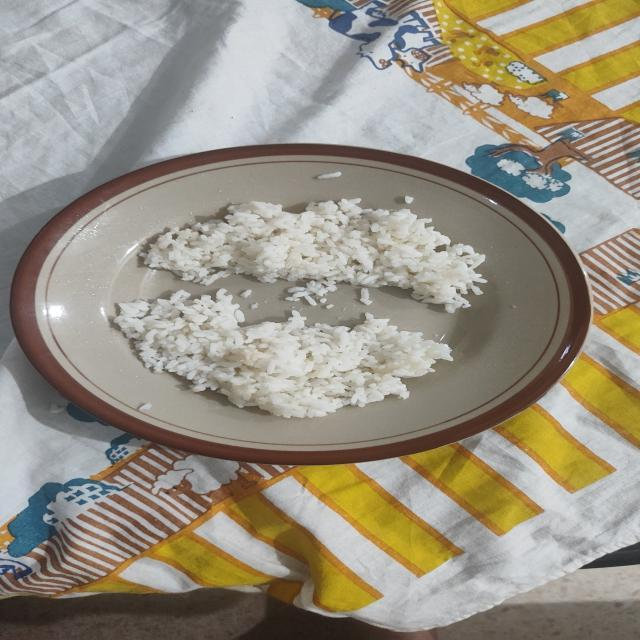nasi_putih: (115, 288, 452, 418), (138, 198, 486, 312)
